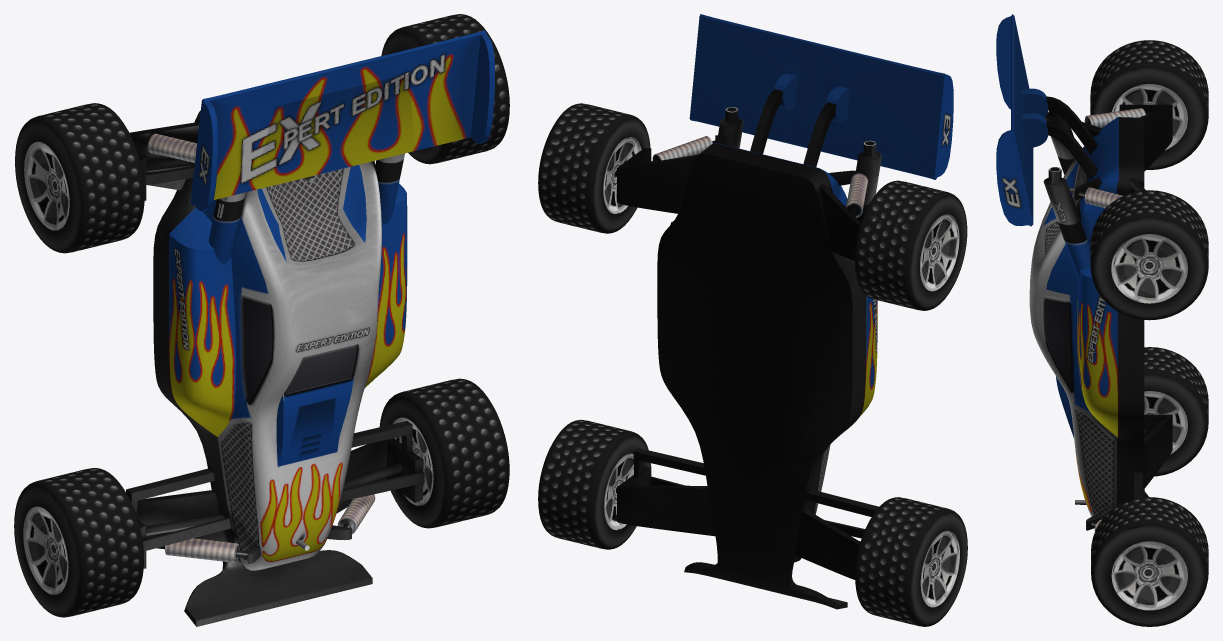
The model's file is 10600_RC_ Car_SG_v2_L3.obj.
The picture shows the model from 3 angles, left to right: view 1: azimuth 30°, elevation 25°; view 2: azimuth 150°, elevation 25°; view 3: azimuth 270°, elevation 25°; orthographic projection. The views are drawn at different scales.
Parts seen in each view (by area): view 1: 10600_RC_Car; view 2: 10600_RC_Car; view 3: 10600_RC_Car.
Part boxes in pixels (x1=…): 10600_RC_Car: x1=14, y1=14, x2=509, y2=626; 10600_RC_Car: x1=538, y1=14, x2=967, y2=626; 10600_RC_Car: x1=996, y1=14, x2=1208, y2=626.
Size of the model in its own units: 27.77 by 35.9 by 14.04.
1 material, 1 textured.
